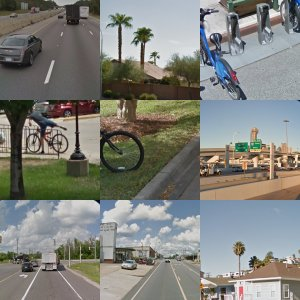棕櫚樹: (107, 11, 131, 57), (131, 24, 151, 71), (232, 240, 247, 269)
汽車: (1, 32, 44, 68), (40, 251, 63, 273), (66, 4, 80, 28), (119, 259, 139, 271), (21, 261, 36, 274)
腳踏車: (200, 9, 246, 100), (100, 123, 152, 176), (26, 121, 73, 155)
